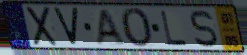A: (94, 8, 126, 47)
L: (159, 10, 189, 47)
O: (119, 6, 154, 49)
S: (189, 9, 219, 49)
V: (50, 5, 81, 47)
X: (25, 5, 60, 47)
